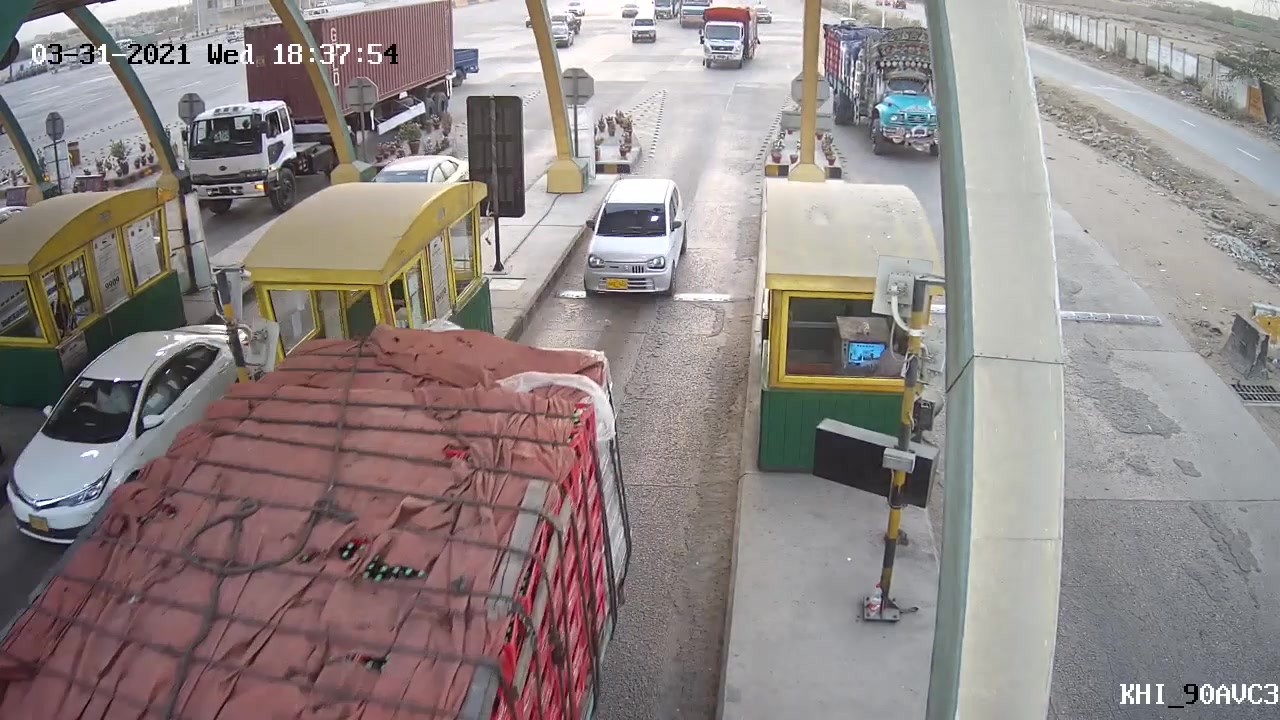F1: (572, 169, 693, 311)
